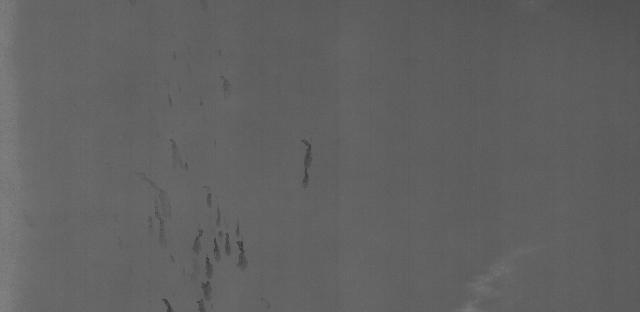water_spot: (190, 201, 251, 285), (137, 163, 178, 236), (294, 128, 328, 194), (185, 278, 215, 312)
